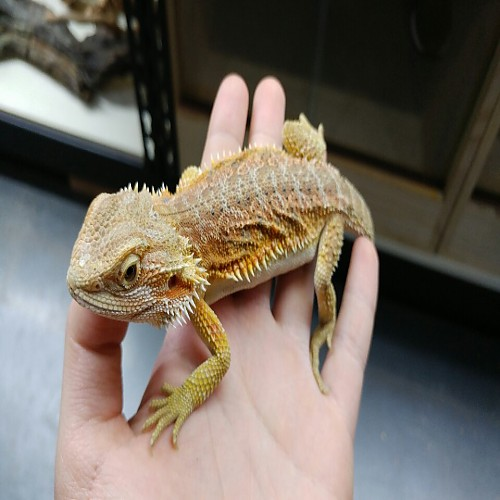bearded: (64, 117, 379, 446)
